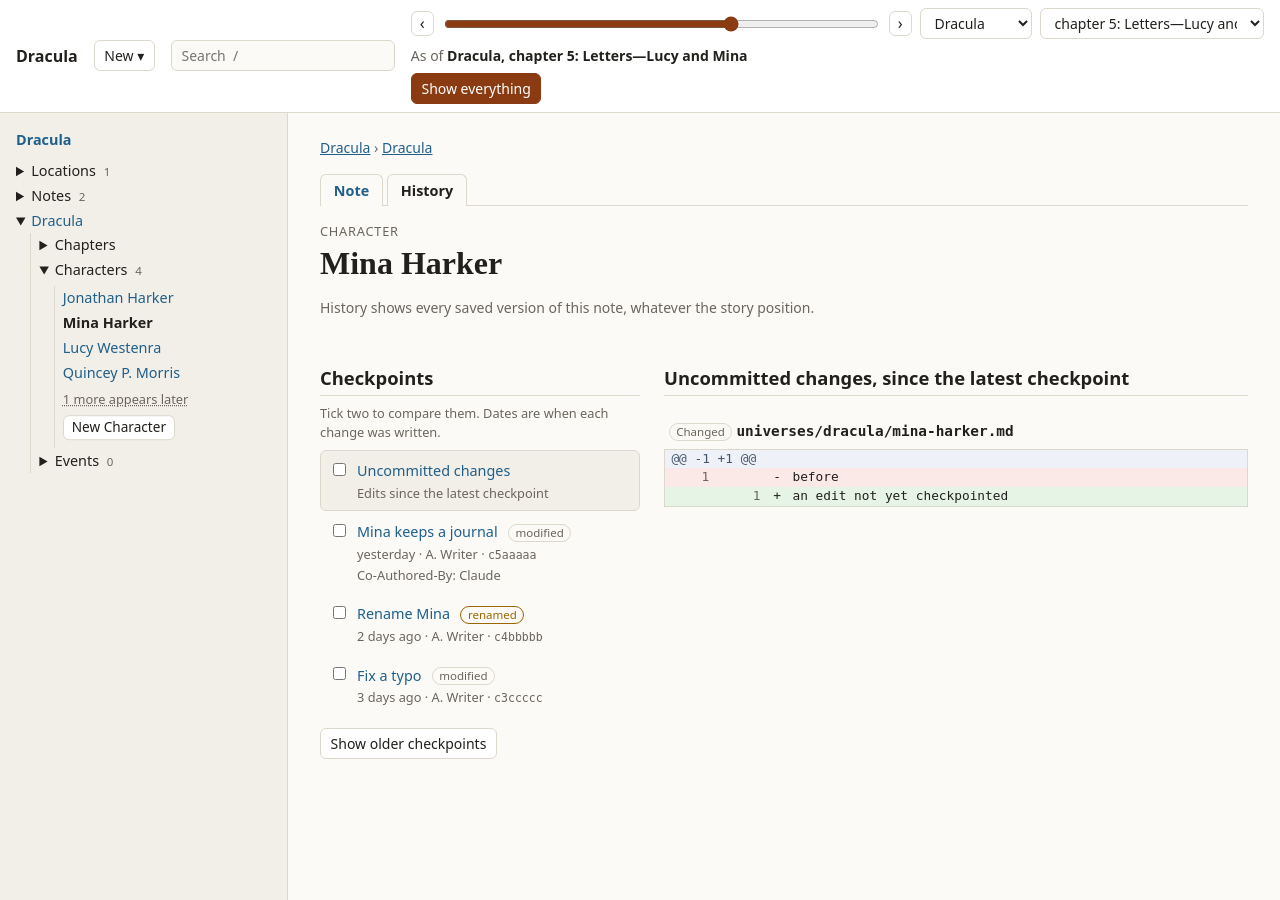
SC-WEB-23: I look at a note’s history in the browser › selects a checkpoint to see what it changed
Click the button "Fix a typo".
click(389, 675)  # box left=357, top=664, right=422, bottom=686
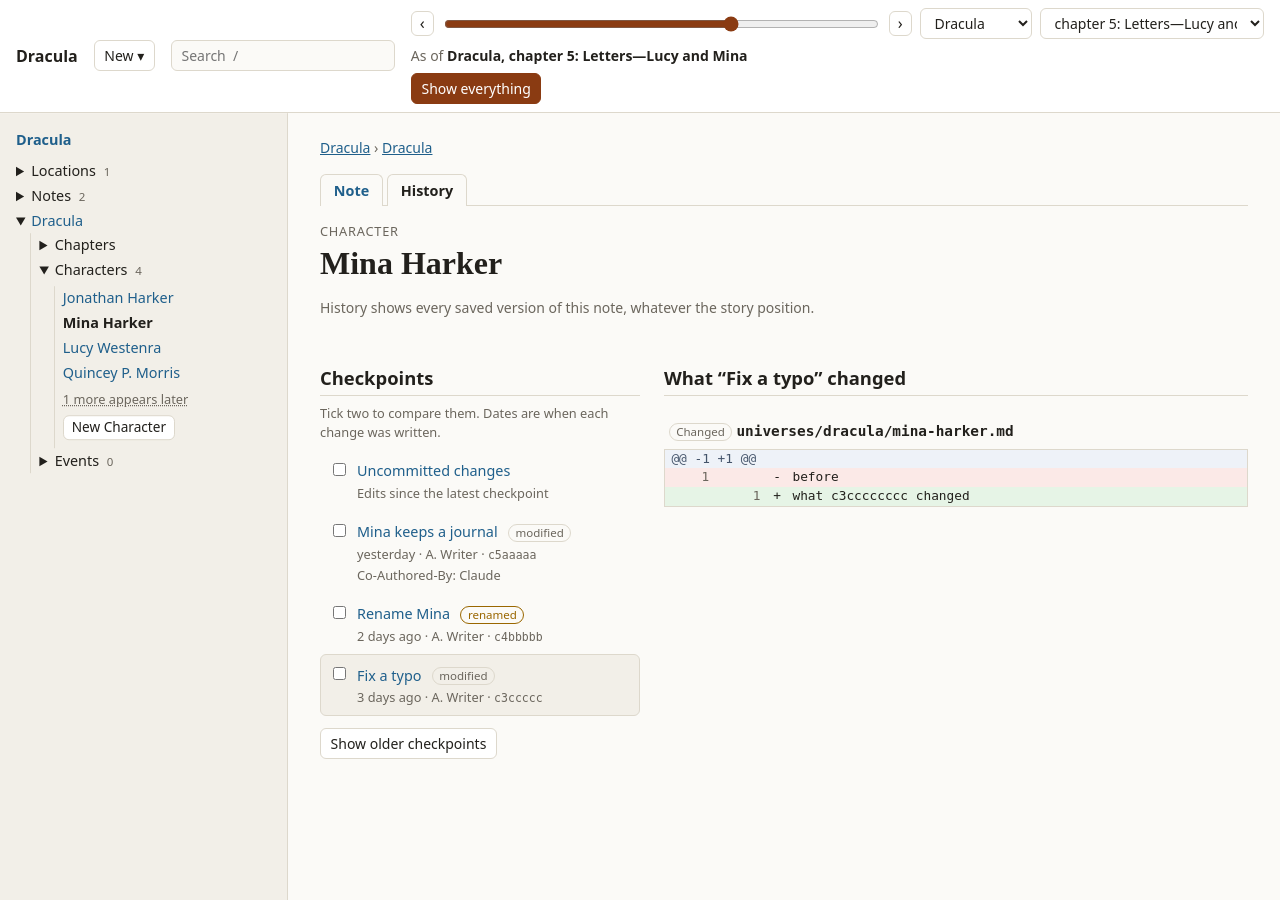
Expected: the text "what c3cccccccc changed" is shown, left=786, top=487, right=1248, bottom=506
Expected: the heading "What “Fix a typo” changed" is shown, left=664, top=364, right=1248, bottom=396
